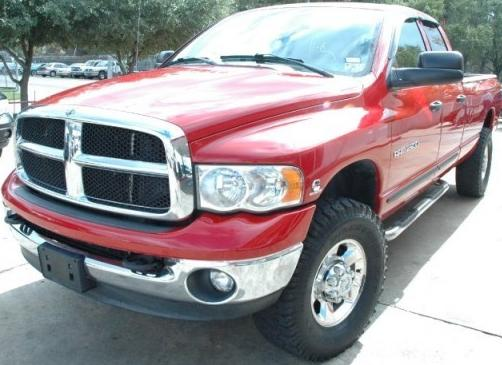front_view: (8, 103, 299, 287)
headlight: (192, 151, 314, 228)
side_glass: (387, 14, 461, 85)
